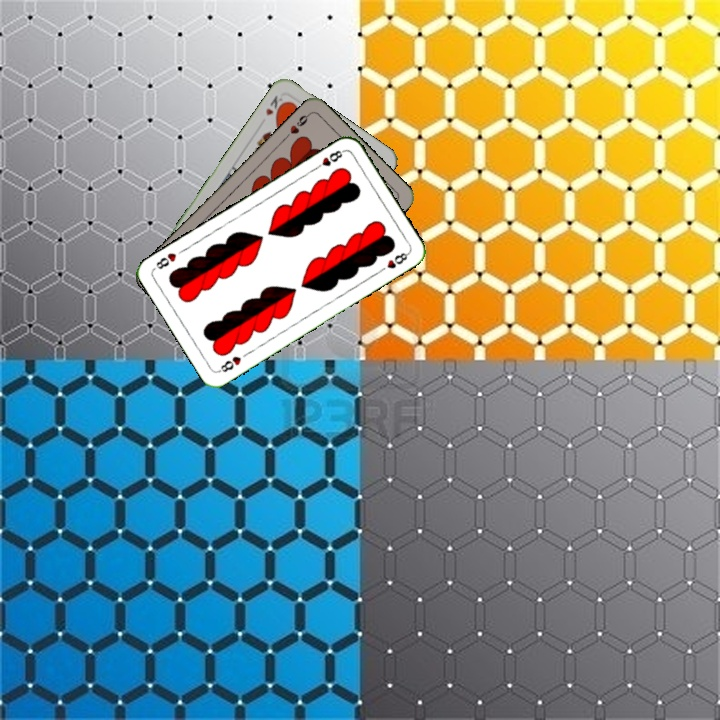H8: (310, 146, 347, 173), (214, 352, 244, 375)
H9: (281, 109, 313, 141)
HK: (262, 91, 289, 120)
